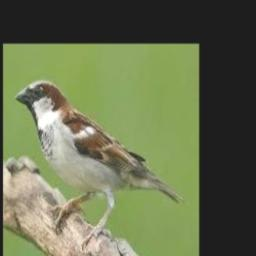Sparrow: (15, 80, 187, 248)
